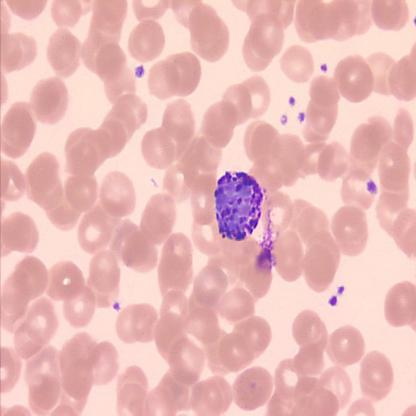Basophil: (213, 166, 264, 242)
